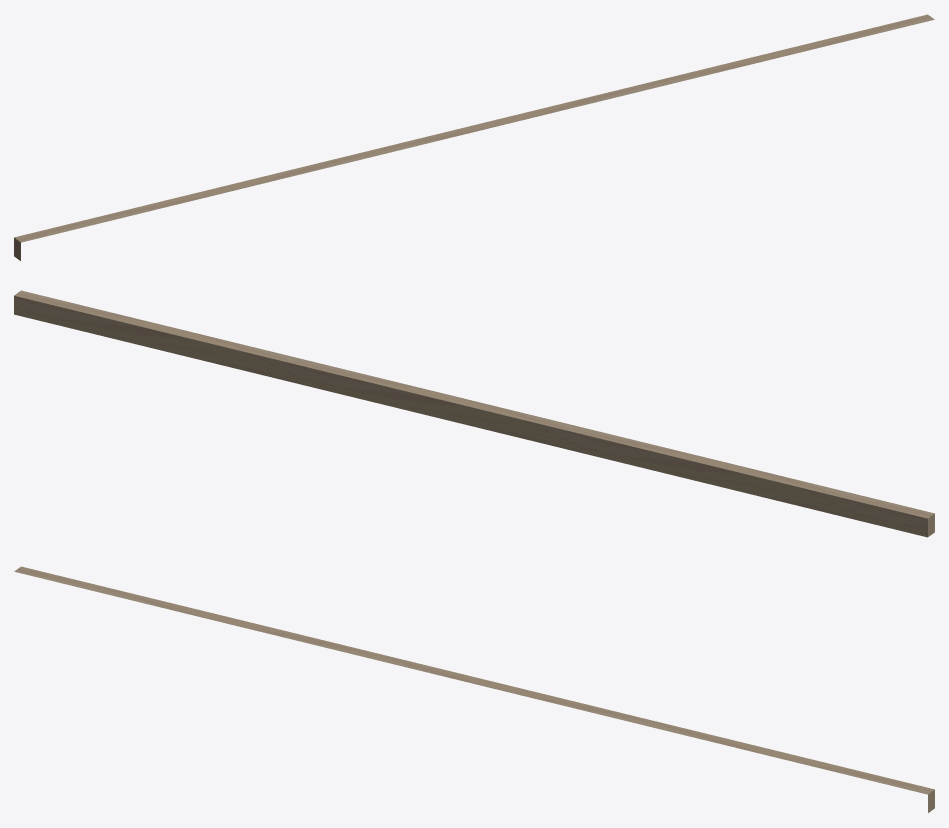
The model's file is kd_stage_135c43_3_9_bounded.glb.
3 views of the same model, one above another, from view 1: azimuth 30°, elevation 25°; view 2: azimuth 150°, elevation 25°; view 3: azimuth 330°, elevation 25° (orthographic).
Visible parts, largest first — view 1: kd_stage_135c43_3_9_bounded; view 2: kd_stage_135c43_3_9_bounded; view 3: kd_stage_135c43_3_9_bounded.
Part boxes in pixels (x1=…): kd_stage_135c43_3_9_bounded: x1=14, y1=14, x2=934, y2=260; kd_stage_135c43_3_9_bounded: x1=14, y1=290, x2=934, y2=537; kd_stage_135c43_3_9_bounded: x1=14, y1=566, x2=934, y2=812.
Bounding box in the file's own units: 2.53 × 0.05 × 0.0342.
Materials: 1 (1 with a texture image).
